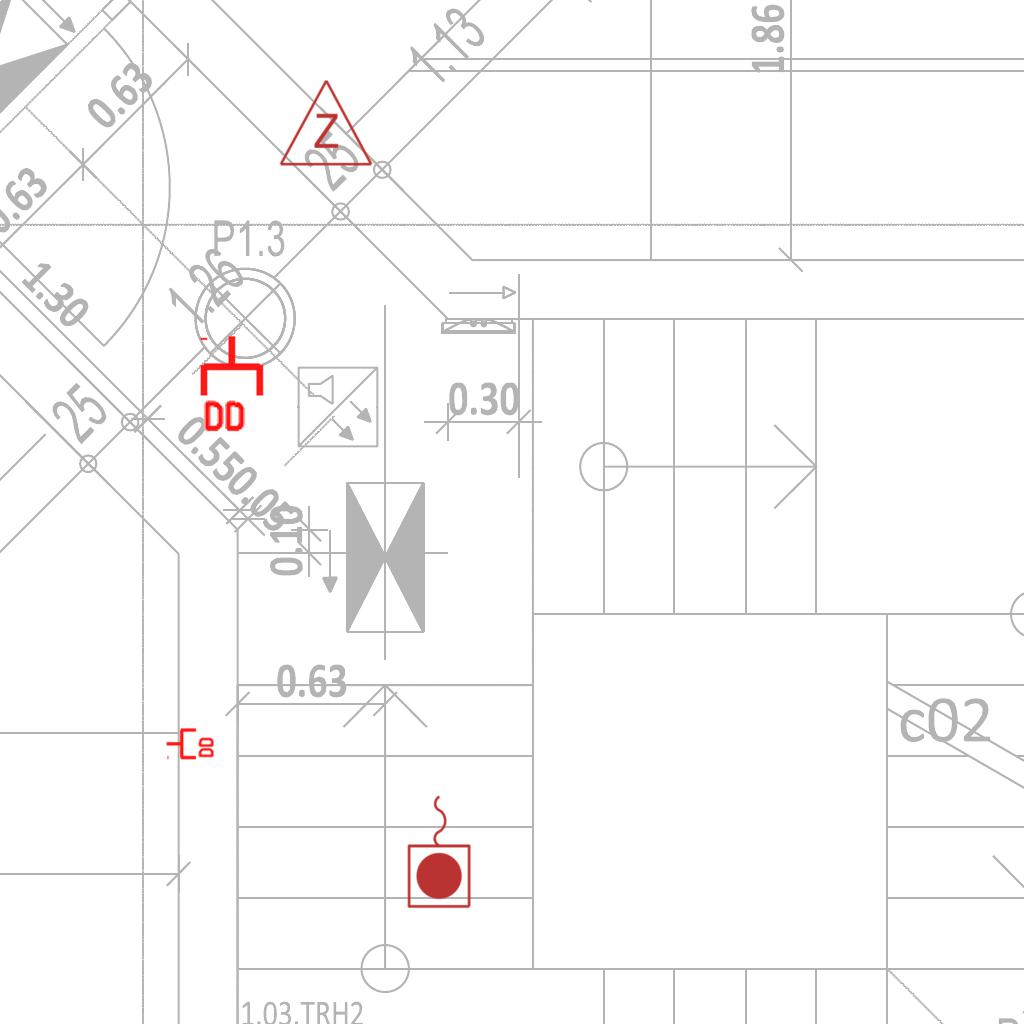Datenanschluss_zweifach: (199, 333, 268, 436), (165, 726, 216, 760)
Zimmersignalleuchte: (276, 73, 374, 173)
Zugtaster: (404, 790, 476, 912)
